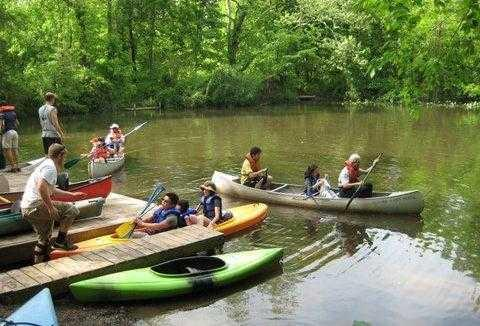kayak: (1, 183, 273, 306), (70, 246, 284, 305), (211, 168, 425, 213), (1, 159, 115, 240), (88, 154, 126, 177)
